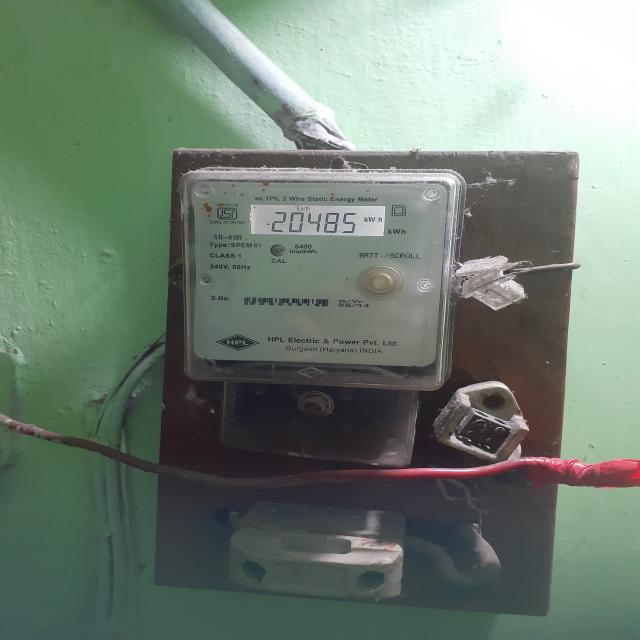display: (247, 205, 388, 240)
